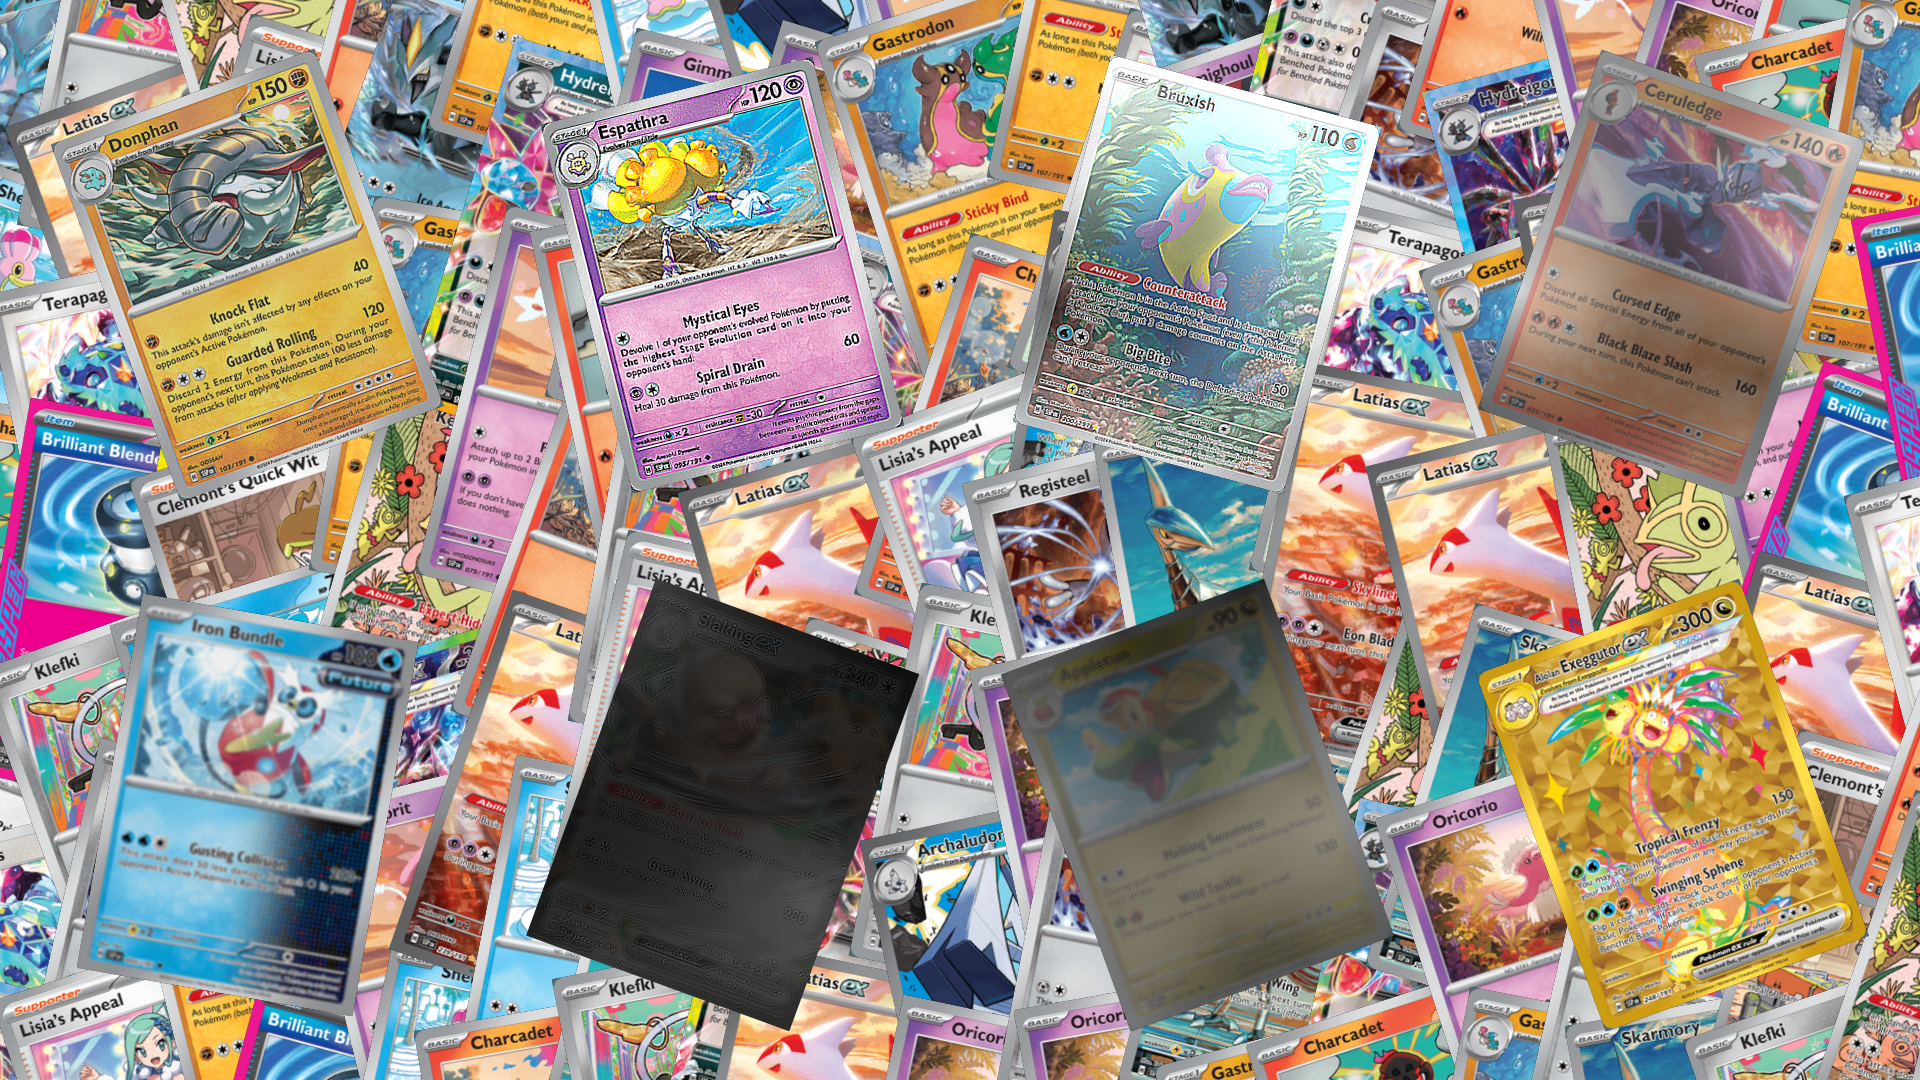Alolan_Exeggutor_ex: (1476, 578, 1869, 1031)
Appletun: (1000, 578, 1394, 1031)
Bruxish: (1011, 54, 1381, 495)
Ceruledge: (1477, 49, 1866, 500)
Donphan: (50, 47, 444, 501)
Espathra: (541, 55, 905, 493)
Iron_Bundle: (76, 593, 418, 1015)
Slaking_ex: (525, 578, 919, 1031)
